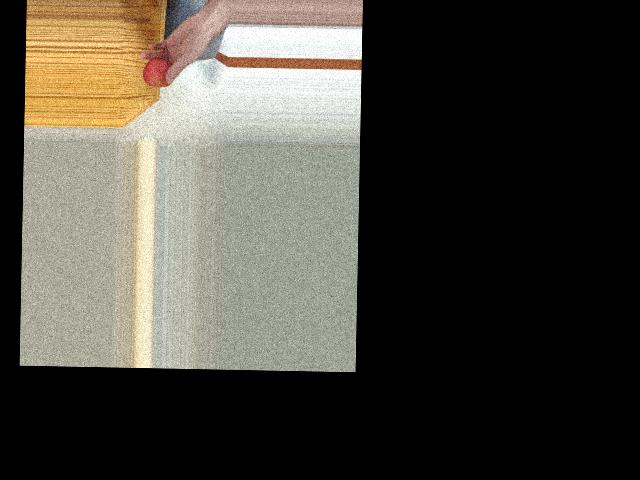apple: (143, 56, 176, 87)
